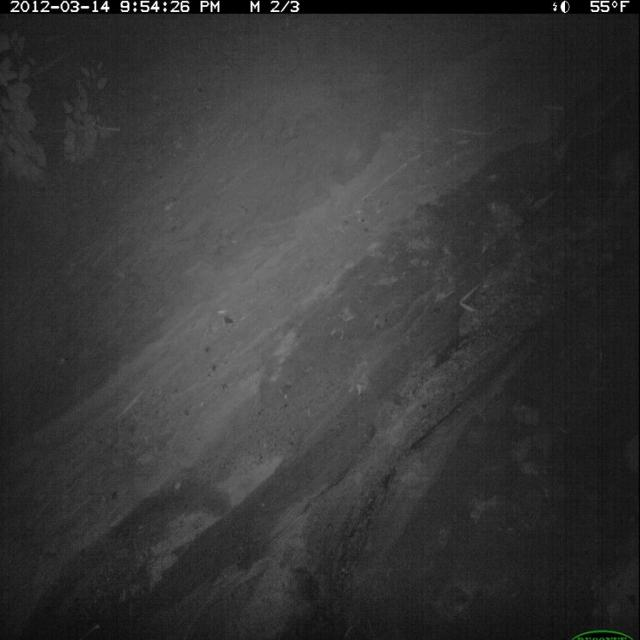opossum: (600, 144, 639, 220)
